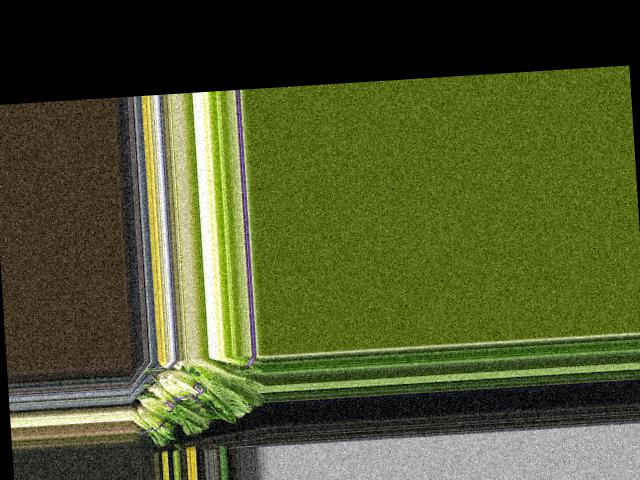lettuce: (184, 358, 264, 417)
